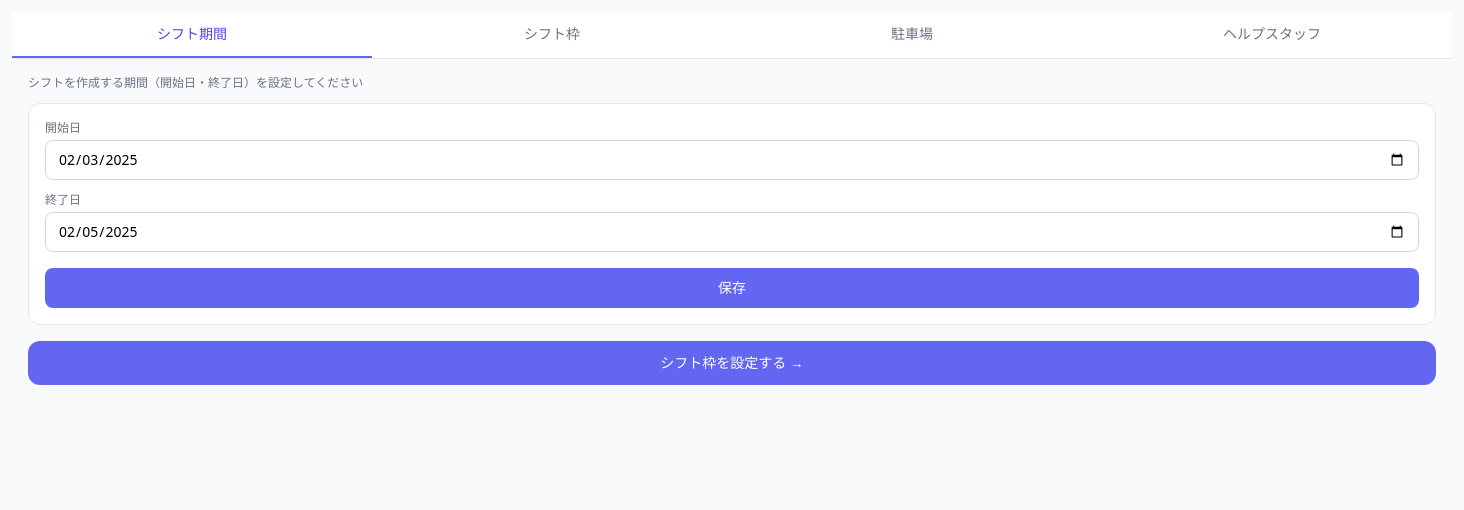
it: SettingsPage › シフト枠タブ › シフト作成期間が設定されている場合に期間内日付の設定UIが表示される
Click the button "シフト枠" at (552, 35), box [372,12,732,58]
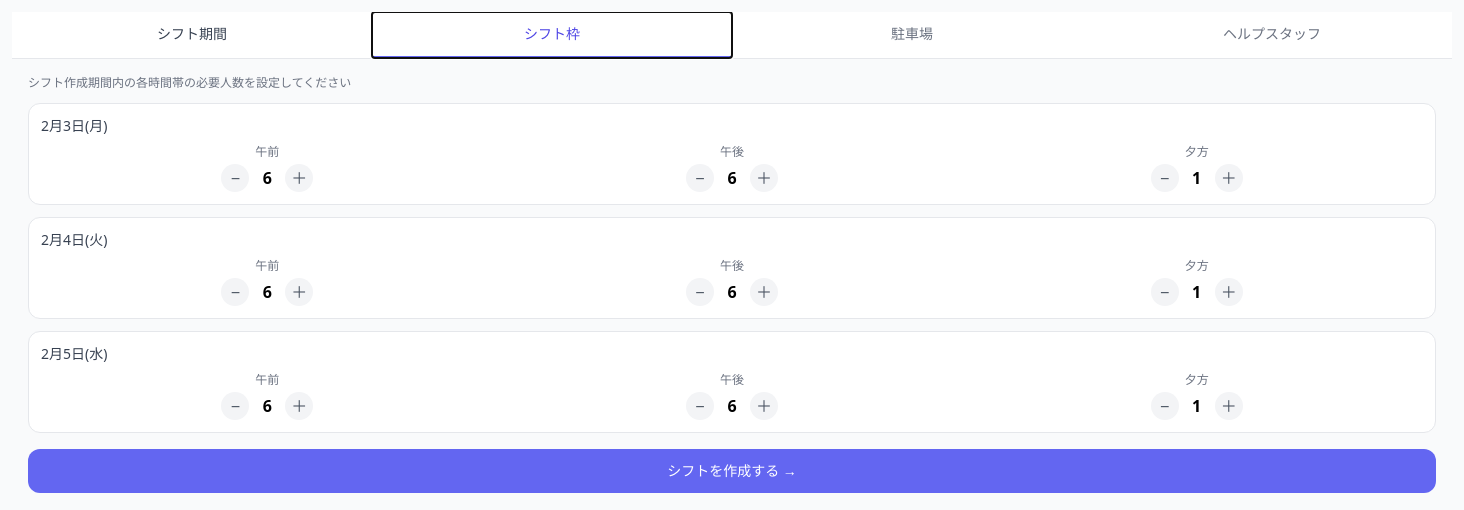
Now the text "2月3日(月)" is shown, box [41,116,107,135]
Now the text "2月4日(火)" is shown, box [41,230,107,249]
Now the text "2月5日(水)" is shown, box [41,344,107,363]
